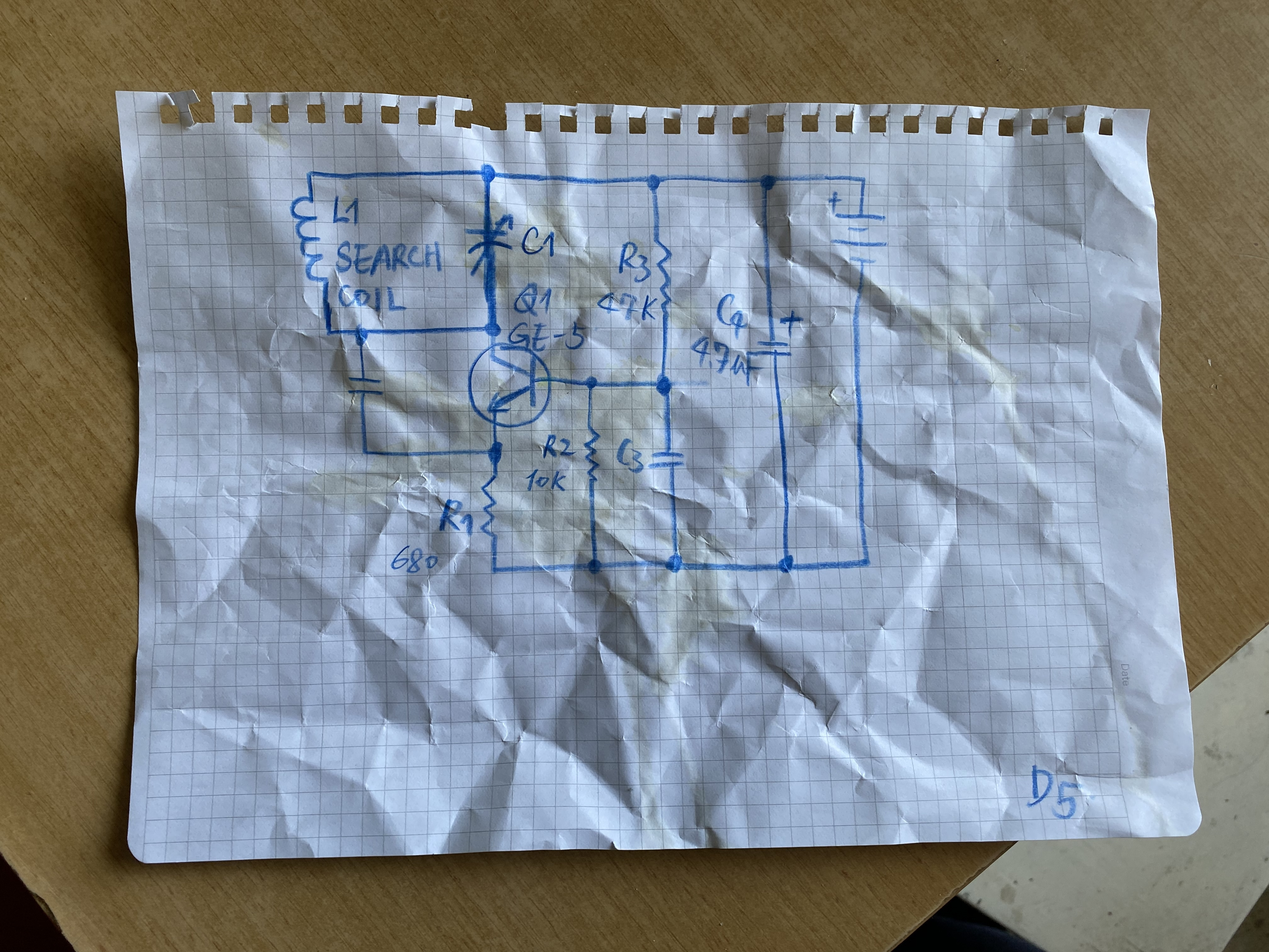capacitor.adjustable: (464, 214, 513, 273)
capacitor.polarized: (750, 310, 801, 363)
capacitor.unpolarized: (343, 371, 388, 400), (649, 448, 687, 470)
inductor: (288, 194, 330, 285)
junction: (651, 373, 676, 397), (484, 441, 506, 464), (643, 170, 665, 193), (482, 318, 504, 340), (776, 553, 797, 575), (583, 557, 605, 577), (664, 553, 684, 575), (758, 171, 778, 192), (352, 323, 369, 347), (478, 163, 498, 183), (582, 374, 601, 394), (857, 554, 875, 570), (358, 445, 373, 461), (302, 167, 318, 182), (857, 173, 870, 186), (487, 564, 500, 576), (323, 326, 336, 338)
resistor: (652, 235, 678, 316), (477, 477, 505, 543), (581, 426, 605, 484)
text: (335, 237, 446, 277), (686, 333, 758, 387), (506, 314, 591, 355), (337, 283, 408, 315), (596, 289, 657, 324), (388, 543, 445, 575), (616, 240, 653, 285), (510, 280, 555, 317), (714, 291, 751, 334), (434, 497, 474, 535), (518, 223, 560, 259), (524, 467, 570, 494), (330, 193, 363, 228), (616, 437, 647, 474), (539, 432, 576, 462)
transistor.bjt: (465, 341, 555, 427)
voltage.battery: (824, 190, 891, 271)
